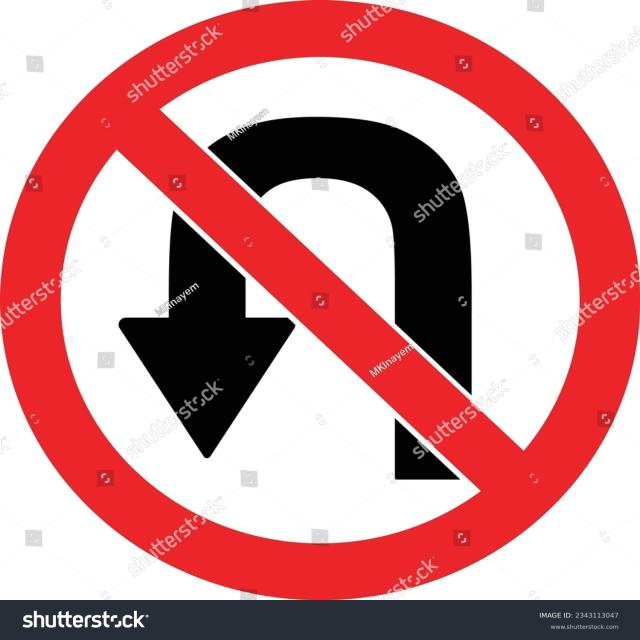Demi-Tour-Interdit: (44, 39, 570, 556)
